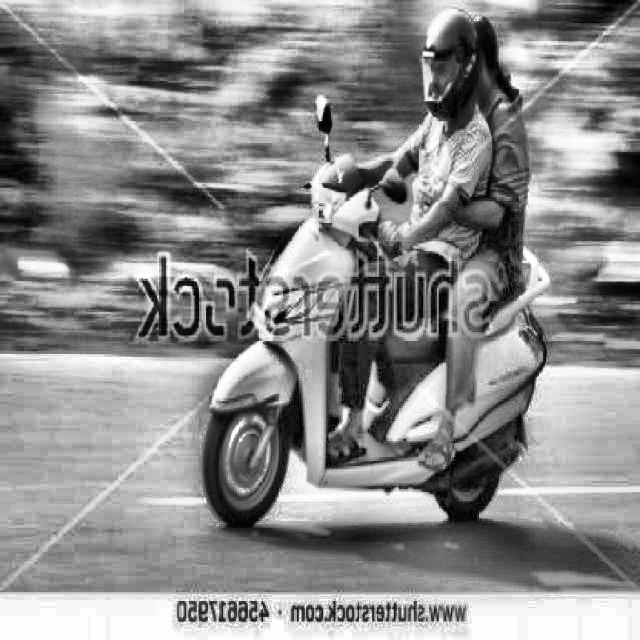motorcycle: (194, 92, 536, 537)
